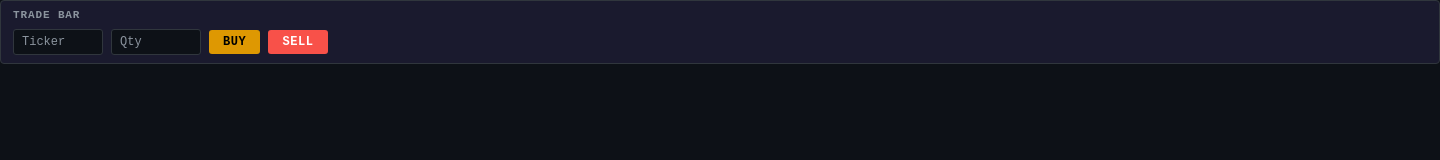
TradeBar › shows validation error on empty trade
Click the button "BUY" at (235,42), box [209, 30, 260, 54]
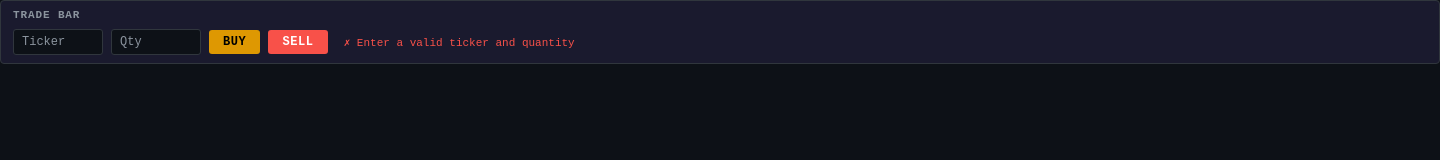
Check: the text "✗ Enter a valid ticker and quantity" is shown, box [344, 36, 575, 48]
